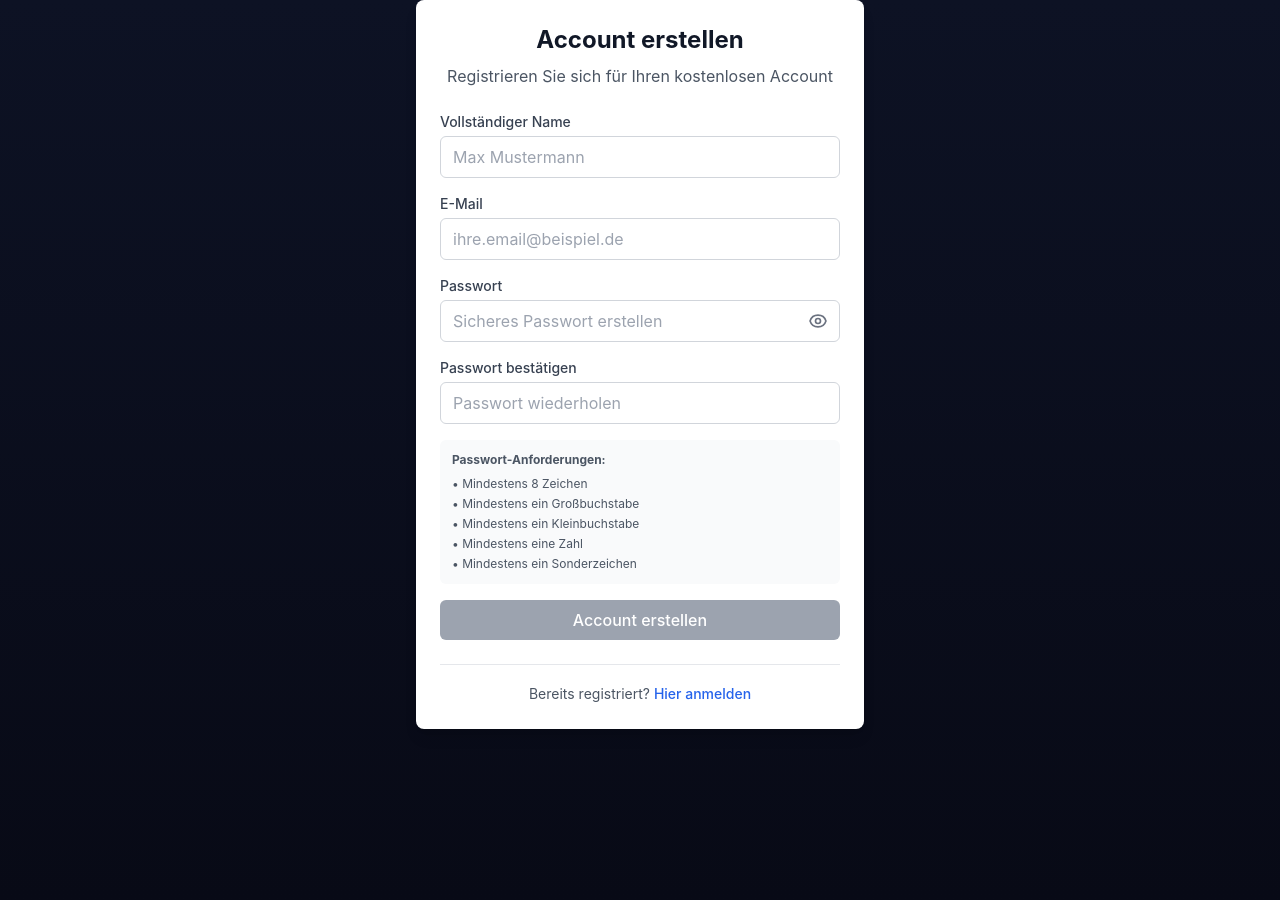
RegisterForm › handles registration error
Step 1. Type "John Doe" into the field labelled "Vollständiger Name" → (640, 157), box x1=440 y1=136 x2=840 y2=178
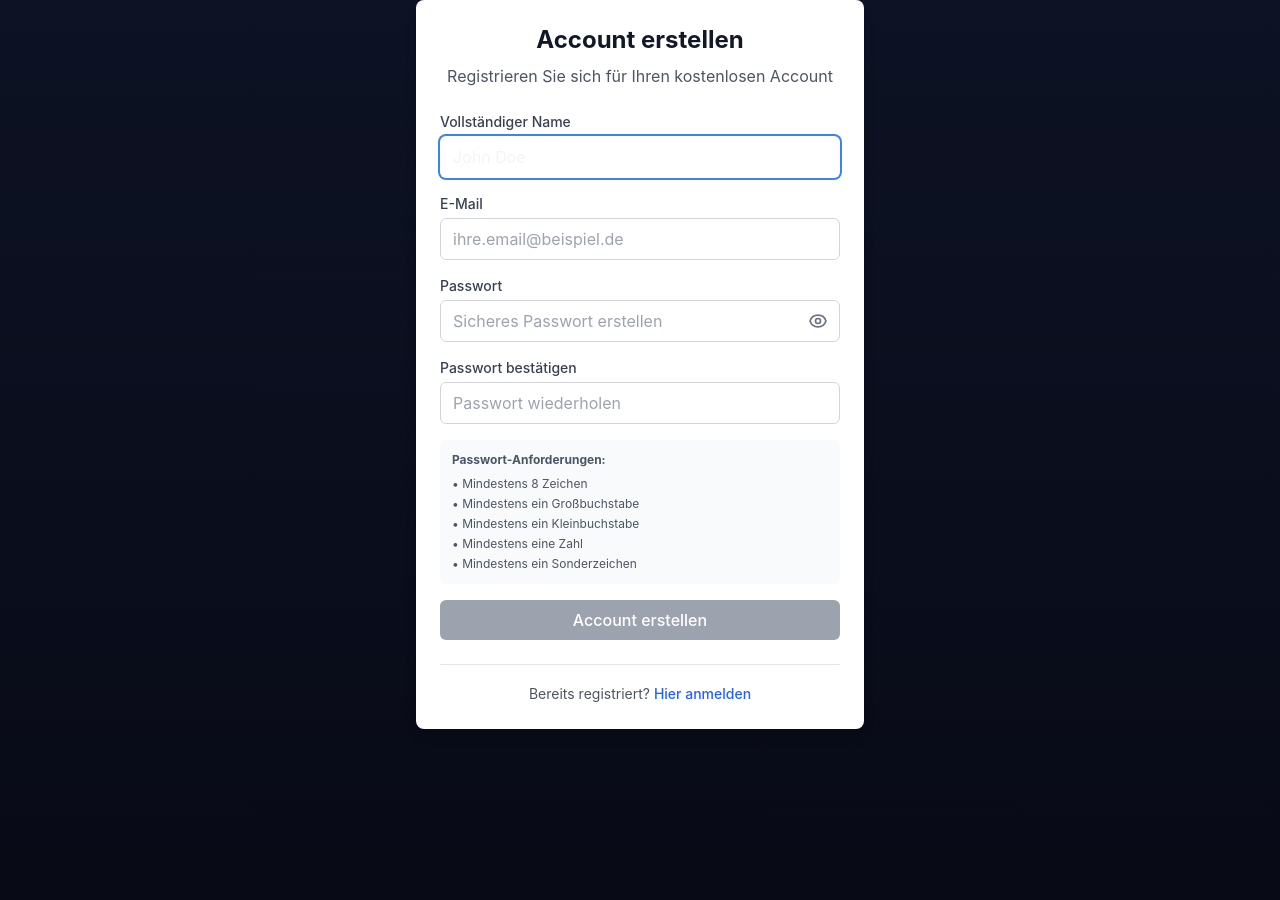
Step 2. Type "existing@example.com" into the field labelled "E-Mail" → (640, 239), box x1=440 y1=218 x2=840 y2=260
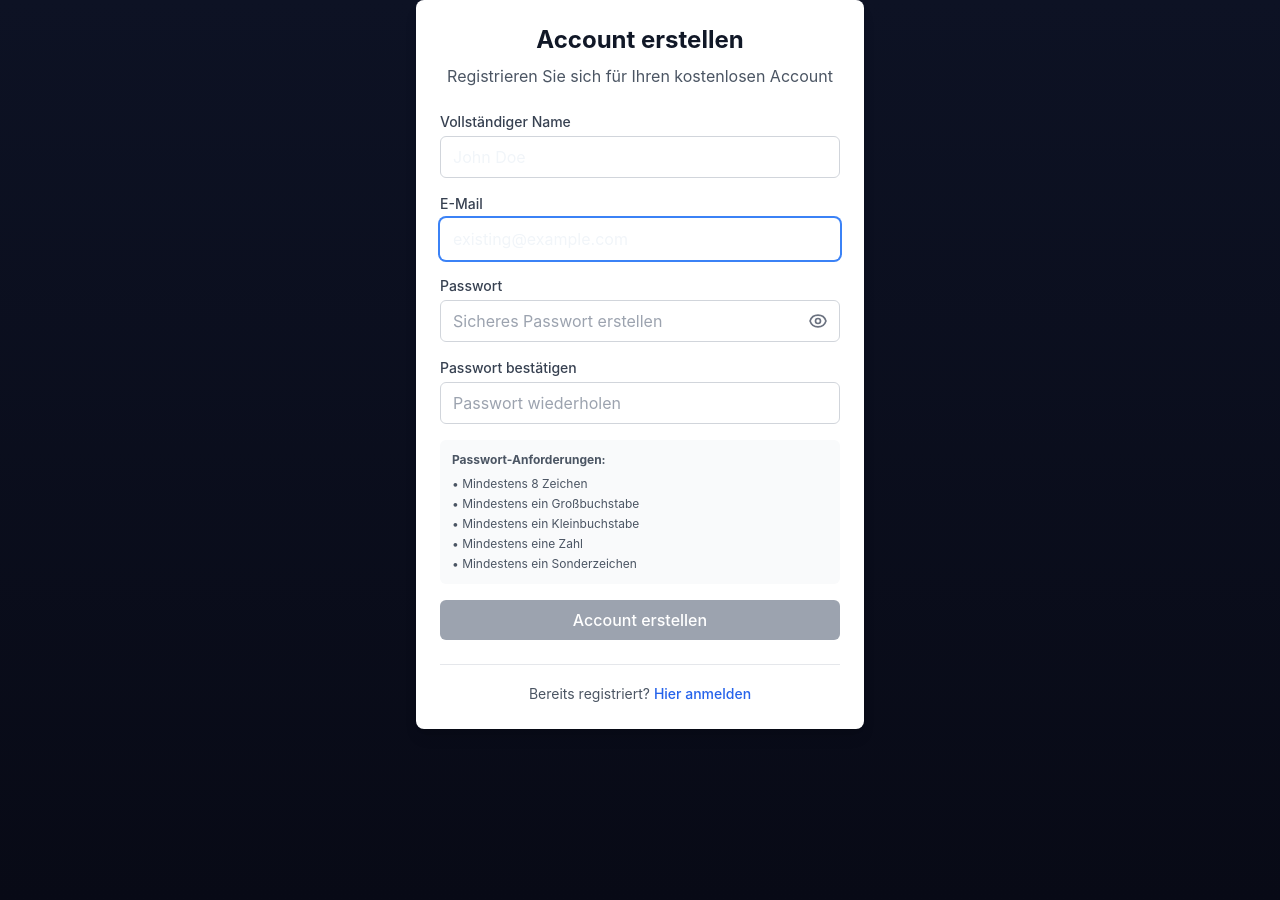
Step 3. Type "SecurePassword123!" into the password field labelled "Passwort" → (640, 321), box x1=440 y1=300 x2=840 y2=342
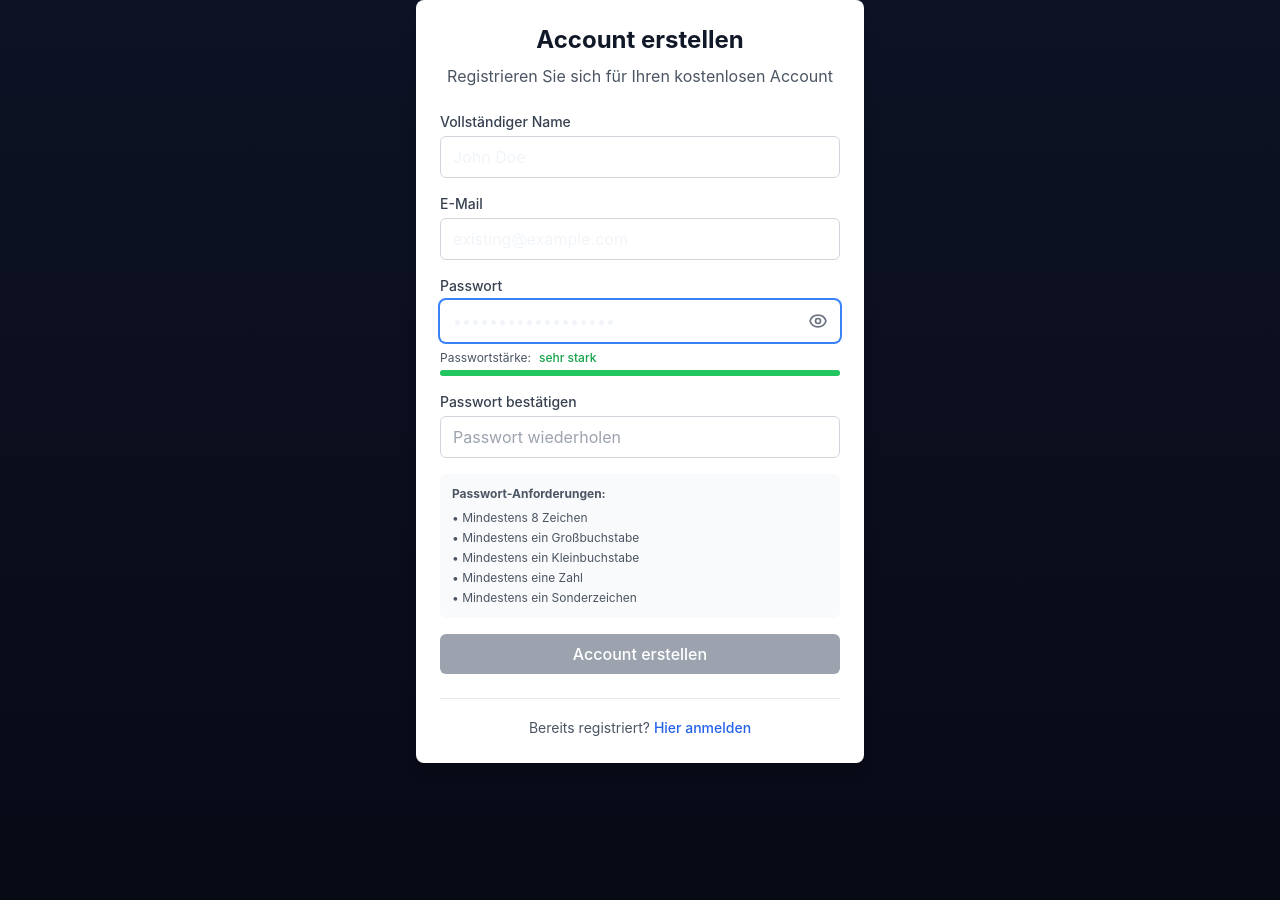
Step 4. Type "SecurePassword123!" into the password field labelled "Passwort bestätigen" → (640, 437), box x1=440 y1=416 x2=840 y2=458
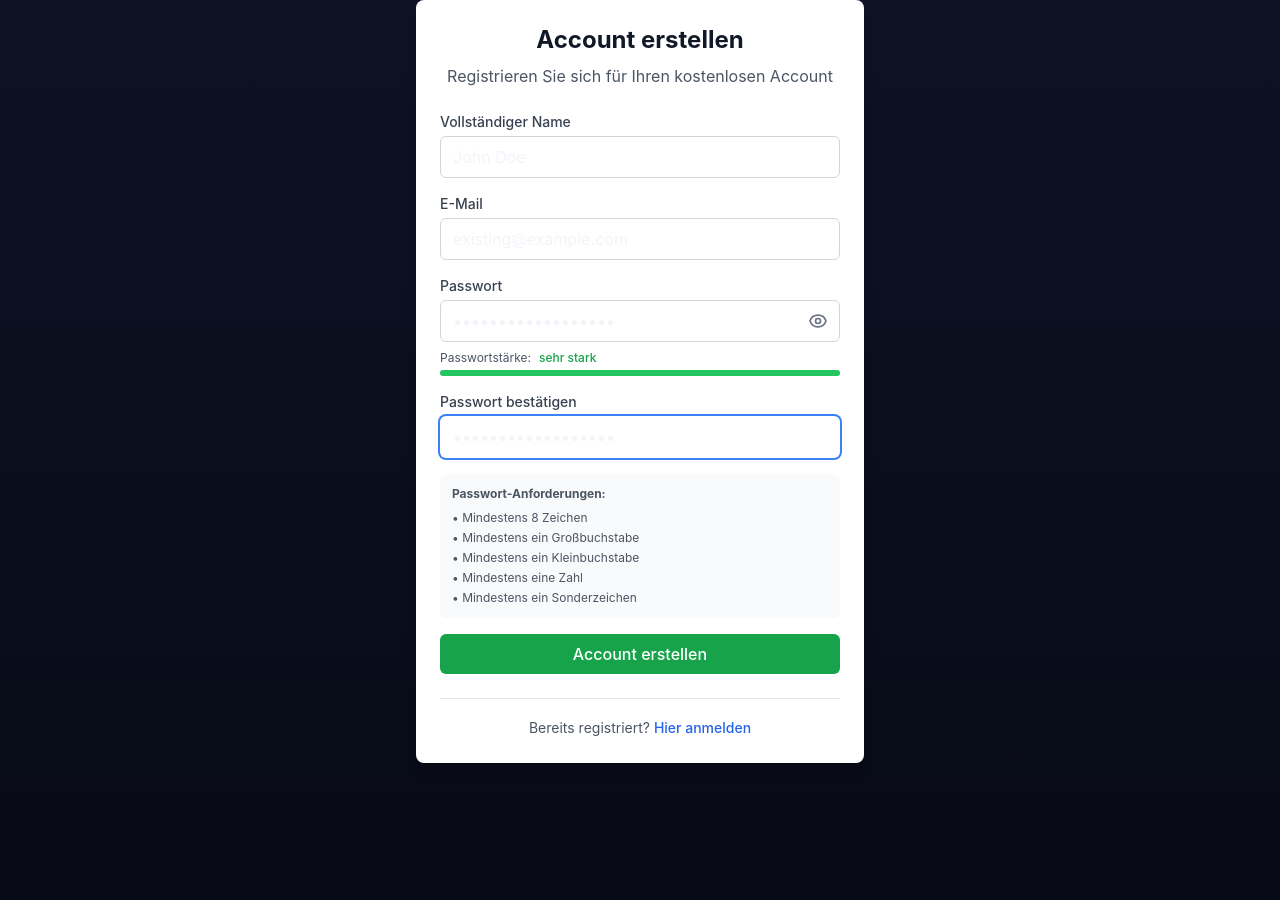
Step 5. Click the button "Account erstellen" → (640, 654), box x1=440 y1=634 x2=840 y2=674
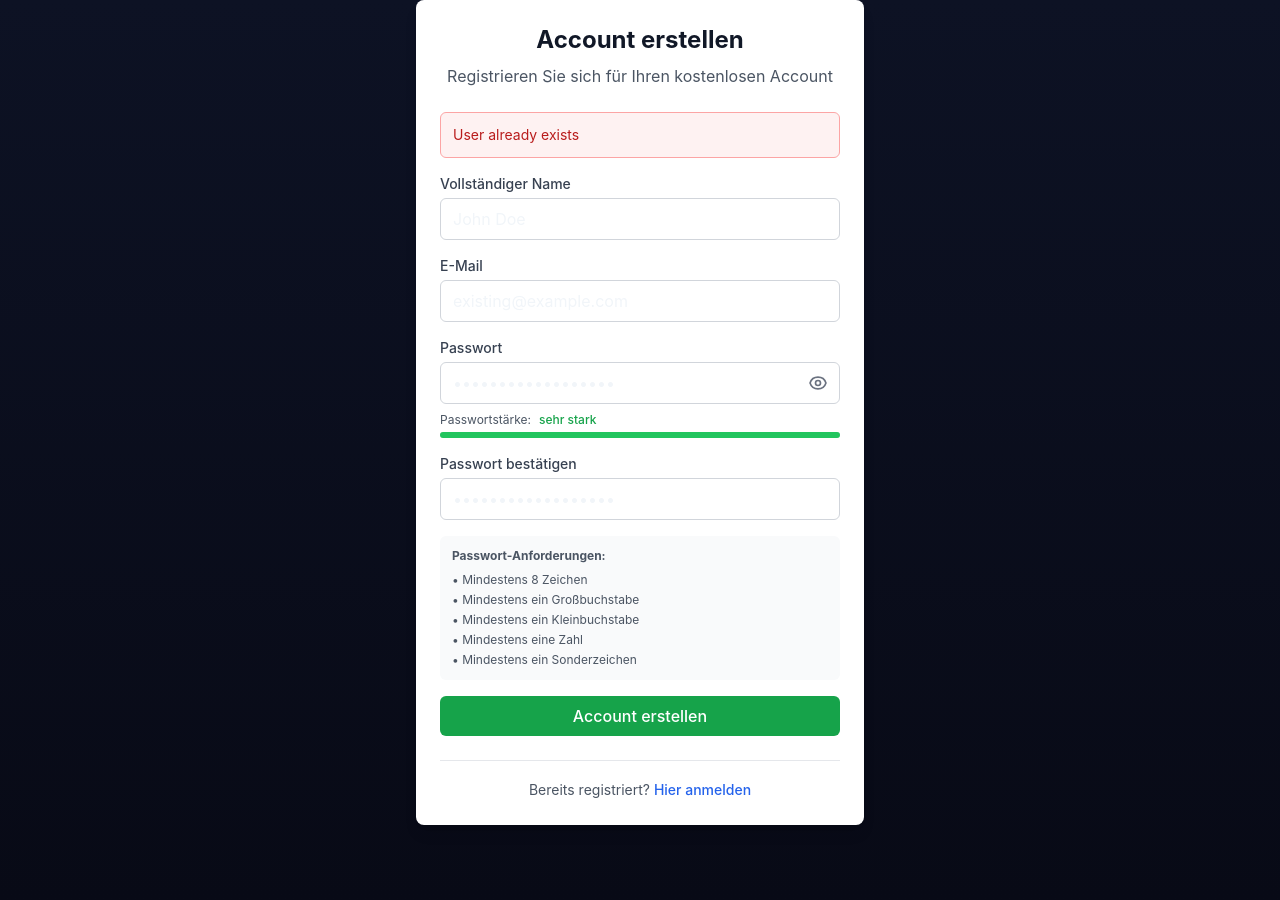
Check: the text "User already exists" is shown, box x1=453 y1=126 x2=579 y2=143
